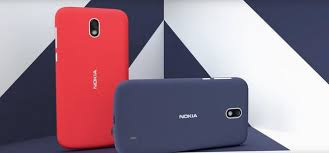nokia: (108, 75, 249, 152)
